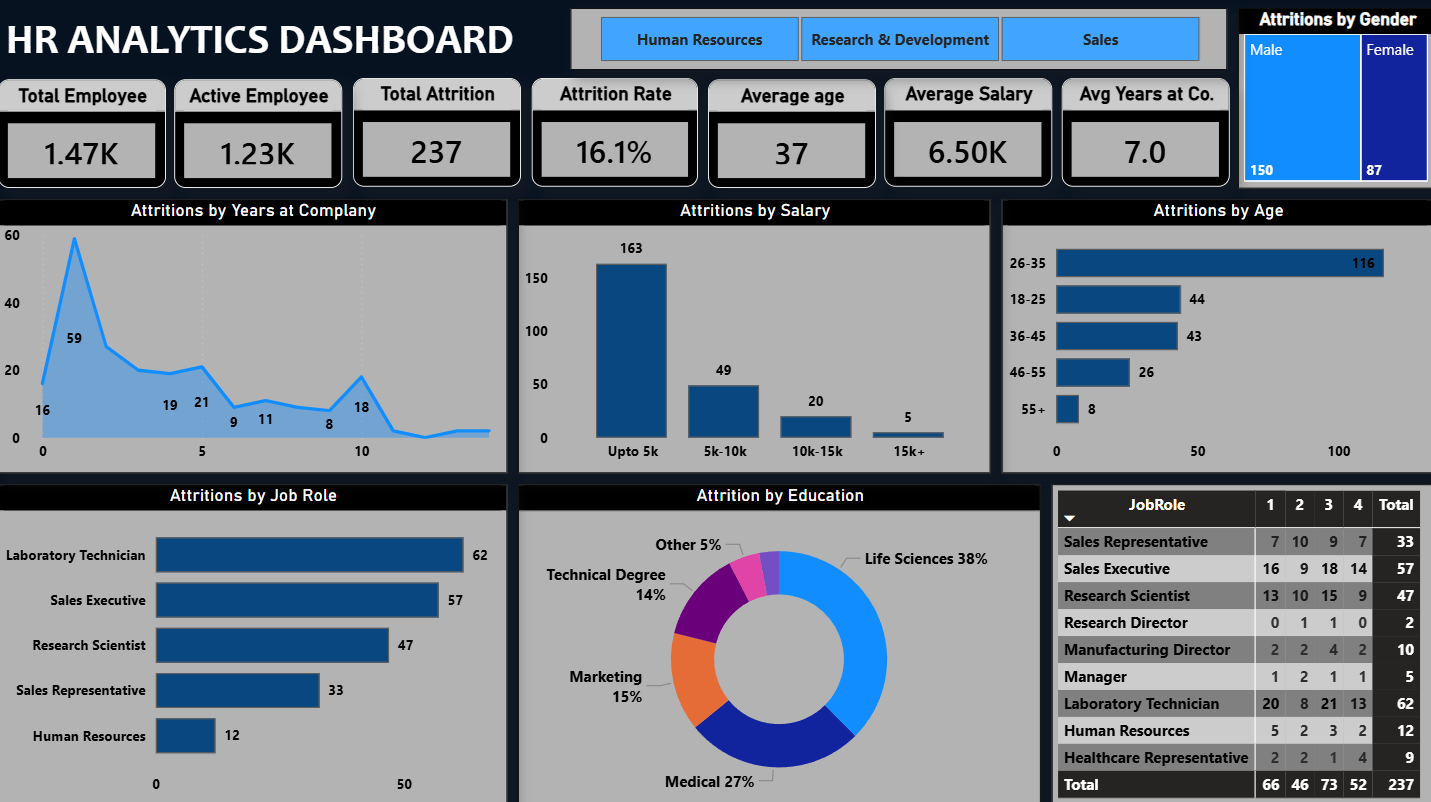

This screenshot's page, from the dashboard's own definition file:
{"tool":"powerbi","page":{"name":"Main Dashboard","canvas":[1280,720],"ordinal":0},"visuals":[{"type":"cardVisual","title":"Total Employee","fields":{"Data":["CountNonNull(HR_Analytics.EmpID)"]},"box":[0,72.4,149.6,97],"z":0},{"type":"cardVisual","title":"Total Attrition","fields":{"Data":["Sum(HR_Analytics.Attrition count)"]},"box":[316.1,71.2,149.6,96.5],"z":1000},{"type":"cardVisual","title":"Attrition Rate","fields":{"Data":["HR_Analytics.AttritionRate"]},"box":[475.3,71,148.4,97],"z":2000},{"type":"cardVisual","title":"Average Salary","fields":{"Data":["Avg(HR_Analytics.MonthlyIncome)"]},"box":[789,71.2,149.6,97],"z":3000},{"type":"cardVisual","title":"Average age","fields":{"Data":["Avg(HR_Analytics.Age)"]},"box":[632.2,72.4,149.6,97],"z":4000},{"type":"cardVisual","title":"Active Employee","fields":{"Data":["Sum(HR_Analytics.ActiveEmp)"]},"box":[156.8,72.4,149.6,96.5],"z":5000},{"type":"donutChart","title":"Attrition by Education ","fields":{"Category":["HR_Analytics.EducationField"],"Y":["Sum(HR_Analytics.AttritionCount)"]},"box":[463.3,432.9,465.7,287.1],"z":6000},{"type":"treemap","title":"Attritions by Gender","fields":{"Group":["HR_Analytics.Gender"],"Values":["Sum(HR_Analytics.AttritionCount)"]},"box":[1103.9,8.4,176.1,160.5],"z":7000},{"type":"cardVisual","title":"Avg Years at Co.","fields":{"Data":["Avg(HR_Analytics.YearsAtCompany)"]},"box":[947.1,71.2,149.6,97],"z":8000},{"type":"barChart","title":"Attritions by Age","fields":{"Category":["HR_Analytics.AgeGroup"],"Y":["Sum(HR_Analytics.AttritionCount)"]},"box":[894,179.8,384.9,243.7],"z":9000},{"type":"pivotTable","title":"Attritions by Gender","fields":{"Rows":["HR_Analytics.JobRole"],"Values":["Sum(HR_Analytics.AttritionCount)"],"Columns":["HR_Analytics.JobSatisfaction"]},"box":[938.6,432.9,341.4,287.1],"z":10000},{"type":"columnChart","title":"Attritions by Salary","fields":{"Category":["HR_Analytics.SalarySlab"],"Y":["Sum(HR_Analytics.AttritionCount)"]},"box":[463.3,179.8,421,243.7],"z":11000},{"type":"barChart","title":"Attritions by Job Role","fields":{"Category":["HR_Analytics.JobRole"],"Y":["Sum(HR_Analytics.AttritionCount)"]},"box":[0,432.9,453.6,287.1],"z":12000},{"type":"textbox","box":[2.4,8.4,464.5,55.5],"z":13000},{"type":"slicer","fields":{"Values":["HR_Analytics.Department"]},"box":[511.6,3.5,584.9,64],"z":14000},{"type":"stackedAreaChart","title":"Attritions by Years at Complany","fields":{"Category":["HR_Analytics.YearsAtCompany"],"Y":["Sum(HR_Analytics.AttritionCount)"]},"box":[0,179.8,453.6,243.7],"z":15000}]}

Visuals, with their boxes in screenshot pixels (x1, y1, x2, y2), scaled from the page's 1280x720 canvas onto the 1431x802 screenshot:
"Total Employee" cardVisual: x1=0, y1=81, x2=167, y2=189
"Total Attrition" cardVisual: x1=353, y1=79, x2=521, y2=187
"Attrition Rate" cardVisual: x1=531, y1=79, x2=697, y2=187
"Average Salary" cardVisual: x1=882, y1=79, x2=1049, y2=187
"Average age" cardVisual: x1=707, y1=81, x2=874, y2=189
"Active Employee" cardVisual: x1=175, y1=81, x2=343, y2=188
"Attrition by Education " donutChart: x1=518, y1=482, x2=1039, y2=801
"Attritions by Gender" treemap: x1=1234, y1=9, x2=1430, y2=188
"Avg Years at Co." cardVisual: x1=1059, y1=79, x2=1226, y2=187
"Attritions by Age" barChart: x1=999, y1=200, x2=1430, y2=472
"Attritions by Gender" pivotTable: x1=1049, y1=482, x2=1430, y2=801
"Attritions by Salary" columnChart: x1=518, y1=200, x2=989, y2=472
"Attritions by Job Role" barChart: x1=0, y1=482, x2=507, y2=801
textbox: x1=3, y1=9, x2=522, y2=71
slicer - HR_Analytics.Department: x1=572, y1=4, x2=1226, y2=75
"Attritions by Years at Complany" stackedAreaChart: x1=0, y1=200, x2=507, y2=472
